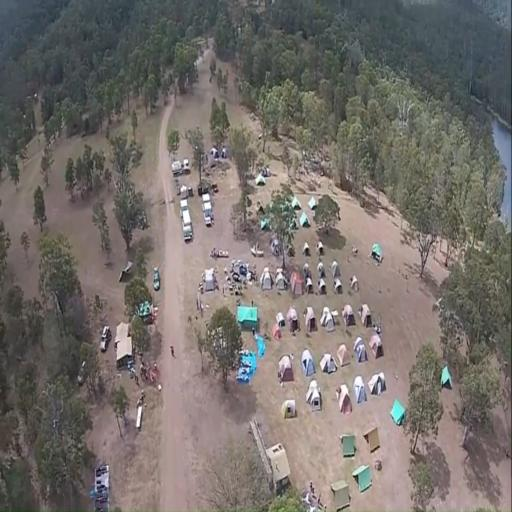Tent: (334, 384, 352, 416), (298, 348, 316, 378), (352, 374, 368, 404), (306, 381, 322, 411), (318, 352, 338, 375), (277, 355, 294, 382), (352, 338, 369, 364), (368, 374, 388, 395), (280, 397, 297, 419), (370, 334, 384, 360), (337, 343, 350, 365)
